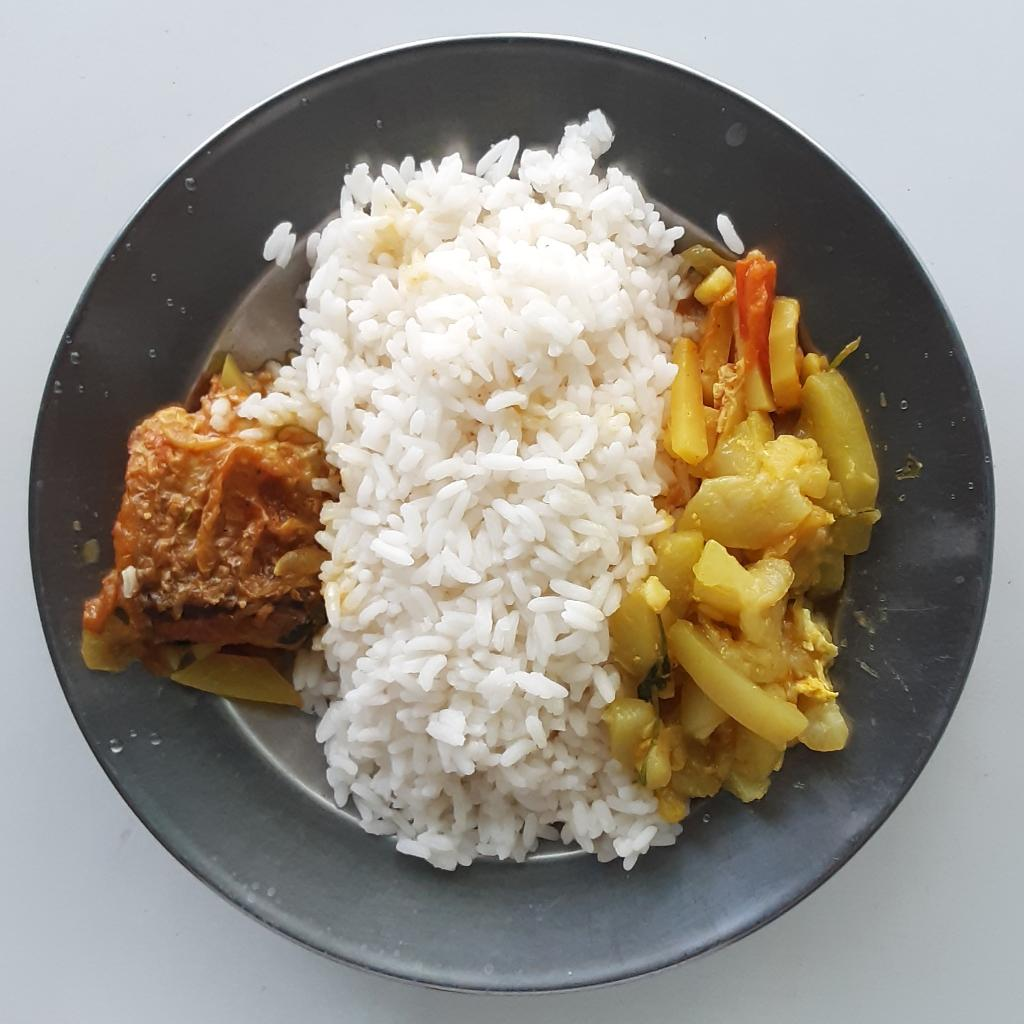fish: (80, 407, 323, 676)
lau: (605, 243, 886, 817)
rice: (207, 102, 704, 876)
